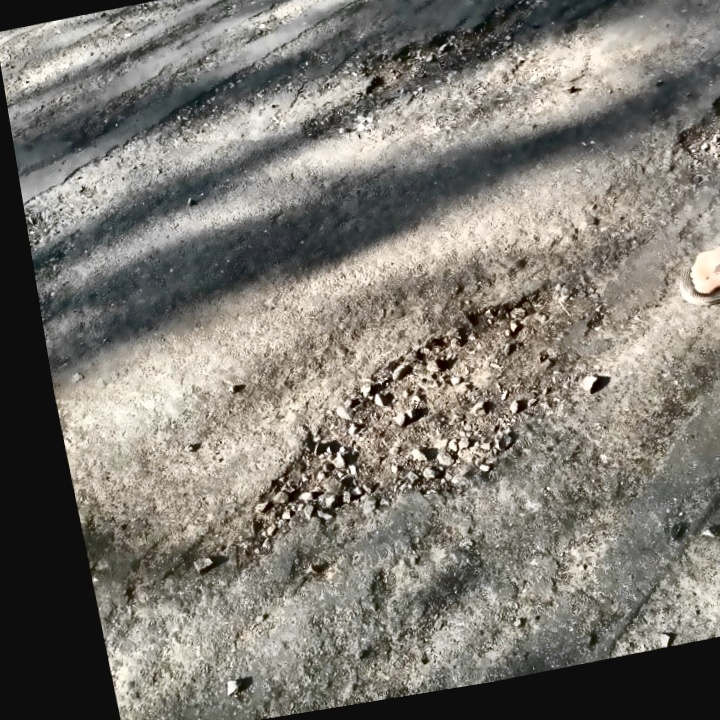pothole: (200, 271, 617, 563), (347, 0, 548, 107), (662, 70, 720, 179)
